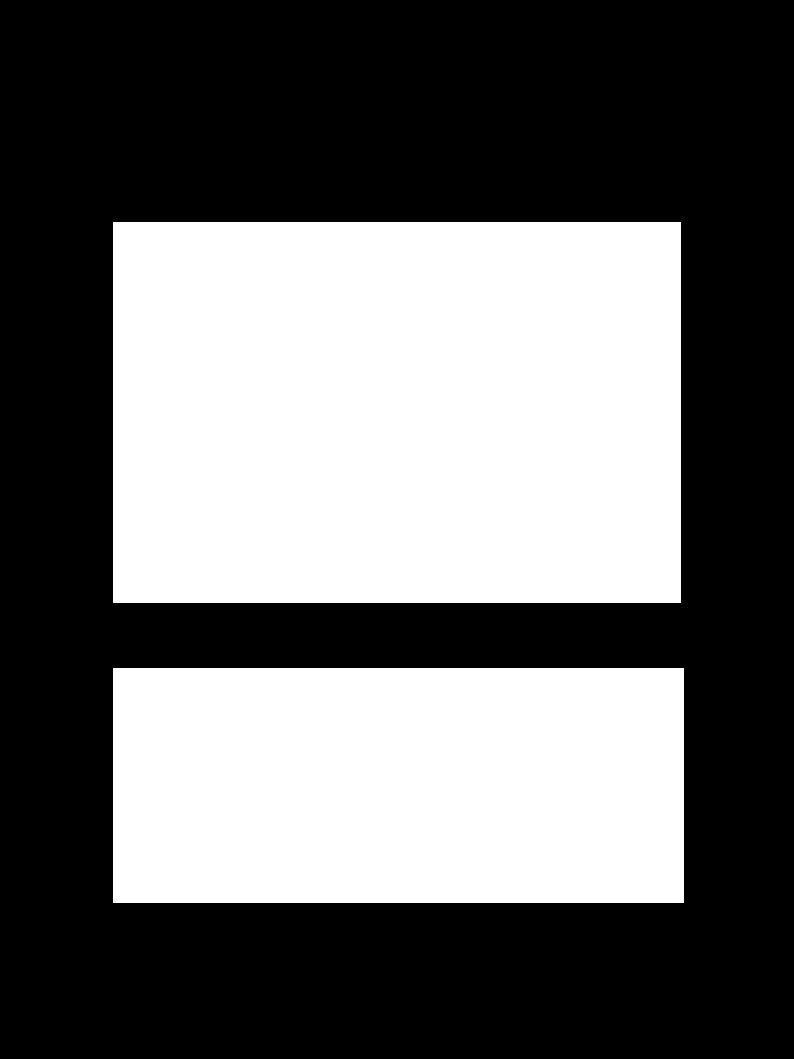table: (113, 222, 680, 602), (113, 668, 683, 902)
